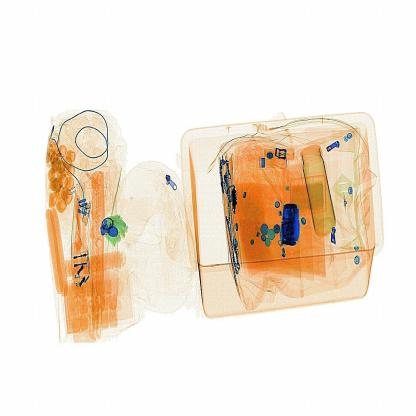scissors: (279, 202, 304, 250)
